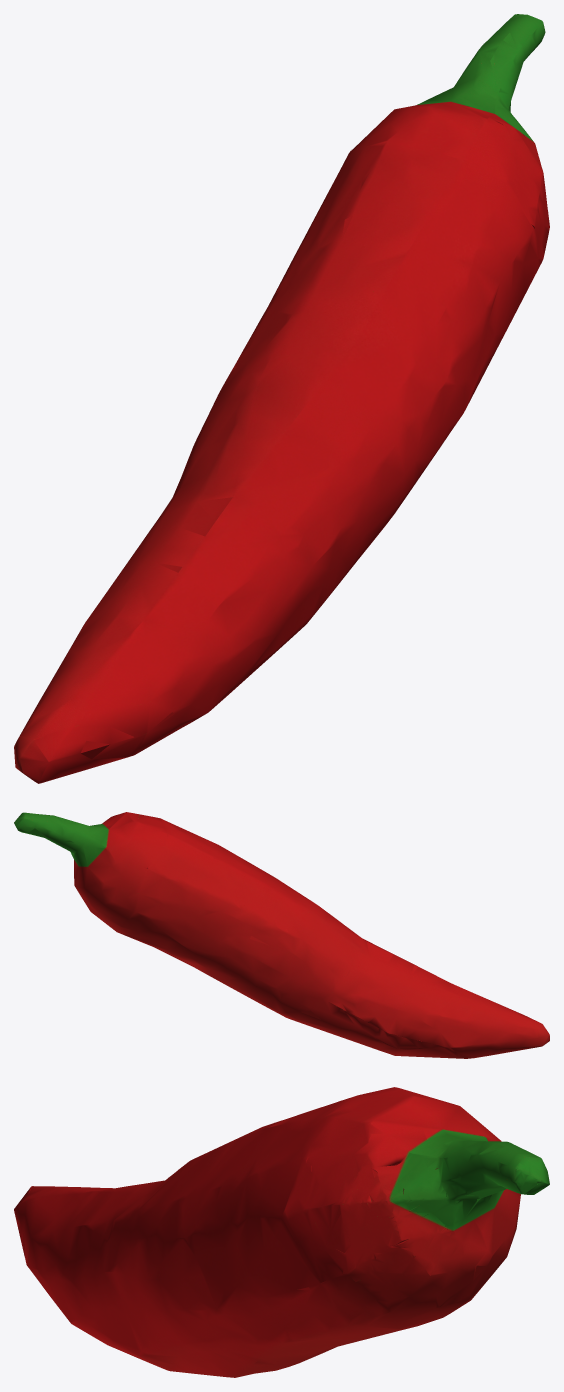
Rendered from Meshy_AI_Low_Poly_Red_Chili_Pe_0823053623_texture.fbx.
3 renders of one model, top to bottom at view 1: azimuth 30°, elevation 25°; view 2: azimuth 150°, elevation 25°; view 3: azimuth 270°, elevation 25°, orthographic. The views are drawn at different scales.
Parts seen in each view (by area): view 1: output_unwrapped; view 2: output_unwrapped; view 3: output_unwrapped.
Boxes of the visible parts, x1=… form: output_unwrapped: x1=14, y1=14, x2=549, y2=783; output_unwrapped: x1=14, y1=812, x2=549, y2=1058; output_unwrapped: x1=14, y1=1087, x2=549, y2=1377.
Size of the model in its own units: 190 by 107 by 109.
1 material, 1 textured.
